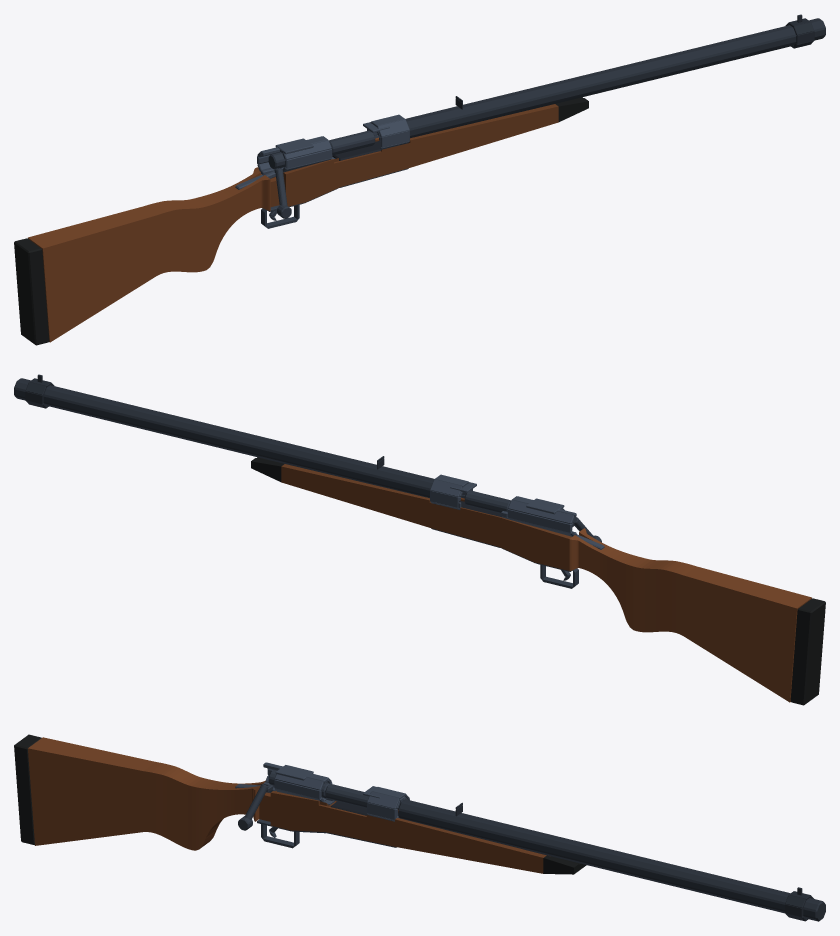
Rendered from rifle_hunting.glb.
3 renders of one model, top to bottom at view 1: azimuth 30°, elevation 25°; view 2: azimuth 150°, elevation 25°; view 3: azimuth 330°, elevation 25°, orthographic.
Parts seen in each view (by area): view 1: stock:stock, barrel:barrel, handguard:handguard, receiver:receiver, bolt-carrier:bolt-carrier, lower:lower; view 2: stock:stock, barrel:barrel, handguard:handguard, receiver:receiver, bolt-carrier:bolt-carrier, lower:lower; view 3: stock:stock, barrel:barrel, handguard:handguard, receiver:receiver, bolt-carrier:bolt-carrier, lower:lower, front-sight:front-sight.
Boxes of the visible parts, <box> form: stock:stock: <box>14,168,270,345</box>; barrel:barrel: <box>405,18,825,138</box>; handguard:handguard: <box>256,97,588,206</box>; receiver:receiver: <box>235,114,409,189</box>; bolt-carrier:bolt-carrier: <box>268,130,375,172</box>; lower:lower: <box>261,168,408,228</box>; stock:stock: <box>569,528,825,705</box>; barrel:barrel: <box>14,378,434,498</box>; handguard:handguard: <box>251,457,571,570</box>; receiver:receiver: <box>430,474,604,549</box>; bolt-carrier:bolt-carrier: <box>464,490,574,527</box>; lower:lower: <box>431,528,578,588</box>; stock:stock: <box>14,734,265,850</box>; barrel:barrel: <box>398,799,825,921</box>; handguard:handguard: <box>259,791,586,874</box>; receiver:receiver: <box>235,762,409,821</box>; bolt-carrier:bolt-carrier: <box>266,770,368,808</box>; lower:lower: <box>257,819,396,848</box>; front-sight:front-sight: <box>785,887,813,921</box>.
Bounding box in the file's own units: 1.06 × 0.1728 × 0.0673.
